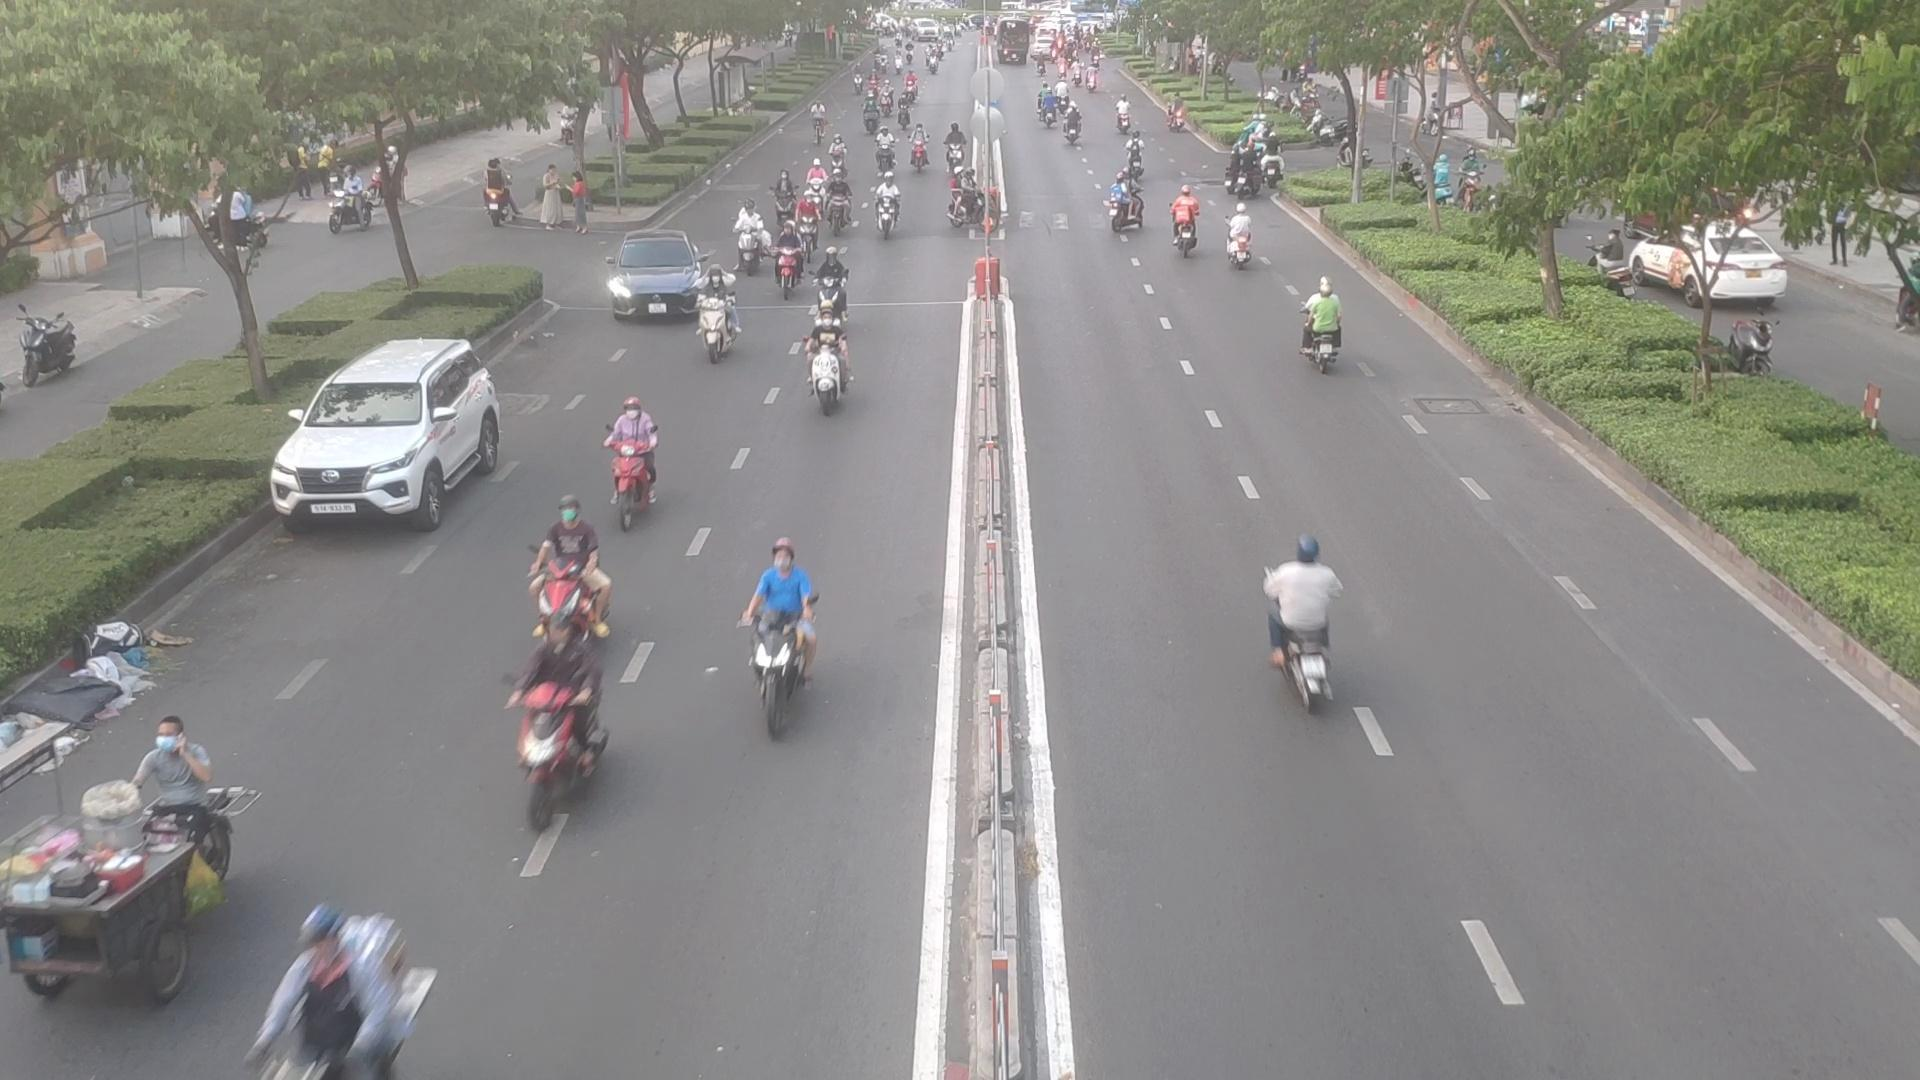car: (274, 338, 518, 531), (600, 239, 712, 324)
motorbike: (247, 911, 425, 1076), (509, 607, 626, 811), (144, 719, 243, 911), (746, 542, 827, 727), (1258, 539, 1350, 700), (597, 398, 667, 510), (796, 315, 858, 411), (1295, 287, 1356, 372), (695, 293, 750, 363), (949, 167, 1001, 239), (771, 224, 806, 291), (1168, 193, 1204, 257), (1101, 182, 1142, 236), (1226, 214, 1263, 270), (870, 183, 905, 241), (822, 182, 857, 235), (735, 224, 769, 273), (798, 193, 822, 258), (769, 170, 795, 228), (804, 161, 827, 214), (909, 131, 936, 171), (872, 124, 898, 162), (828, 135, 851, 179), (1124, 131, 1145, 177), (1062, 108, 1087, 146), (944, 117, 963, 167)
